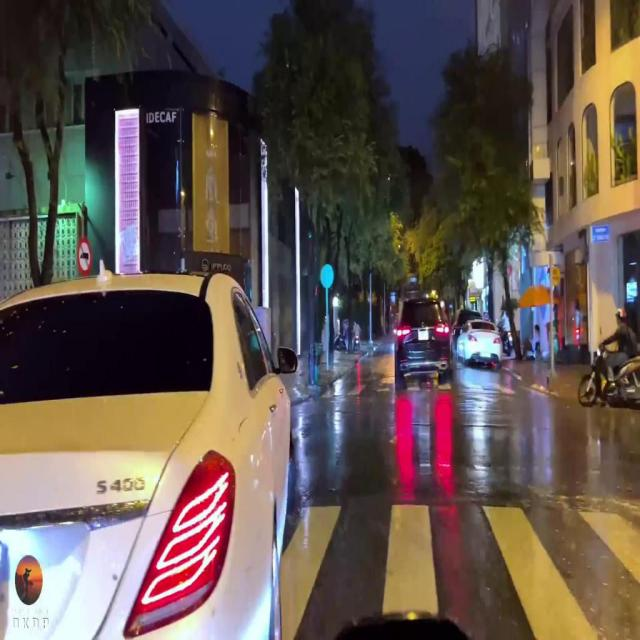cam_o_to_tai: (77, 238, 92, 277)
